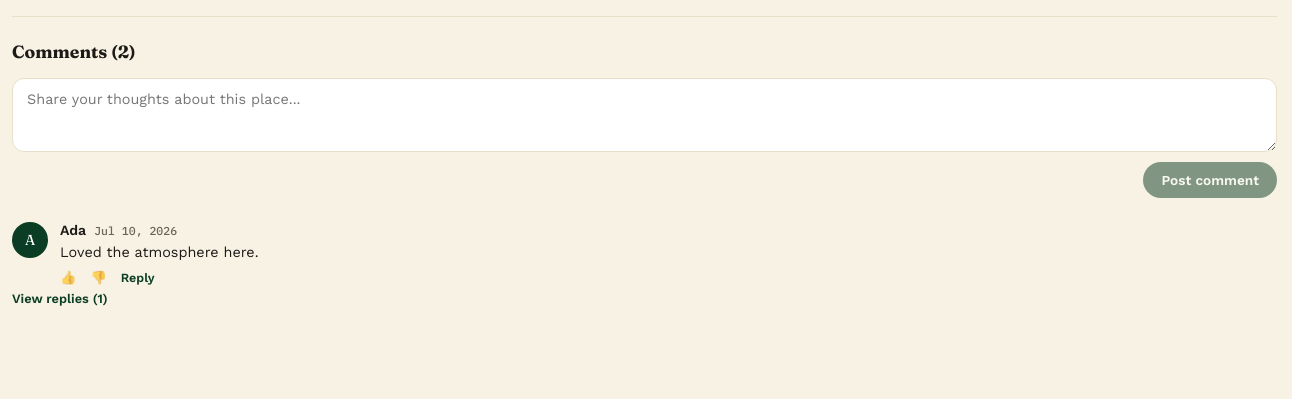
CommentSection › renders comments with a combined count, replies collapsed until requested
The image size is (1292, 399).
Expected: the text "Loved the atmosphere here." is shown, [60,244,258,260]
Expected: the text "Ada" is shown, [60,222,86,238]
Click the button "View replies (1)" at x=60, y=295, box [12,285,108,306]
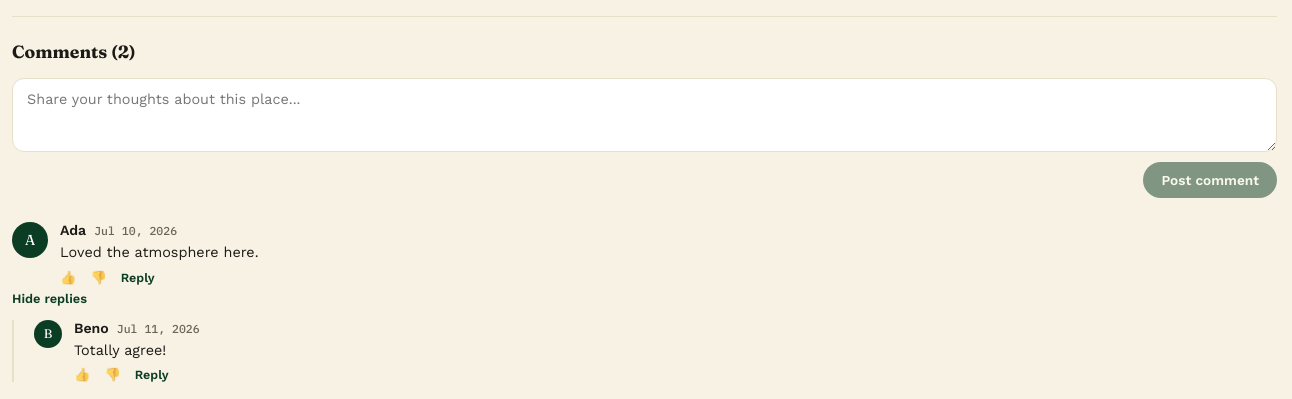
Expected: the text "Totally agree!" is shown, [74,342,166,358]
Expected: the text "Beno" is shown, [74,320,109,336]
